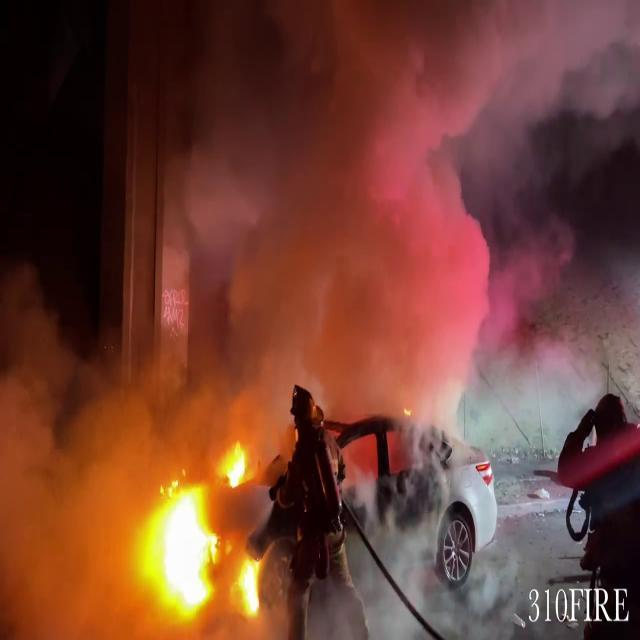Fire: (140, 442, 266, 628)
Smoke: (93, 0, 639, 399), (0, 246, 158, 632)
